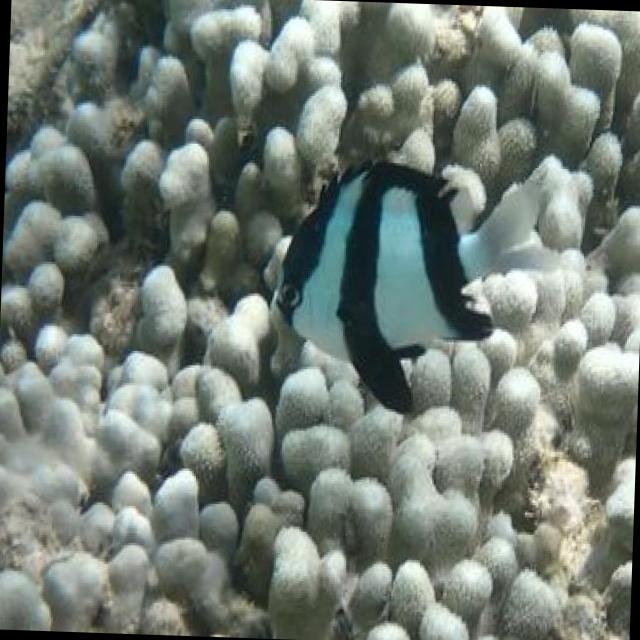Three_striped DasmselFish: (264, 148, 565, 423)
